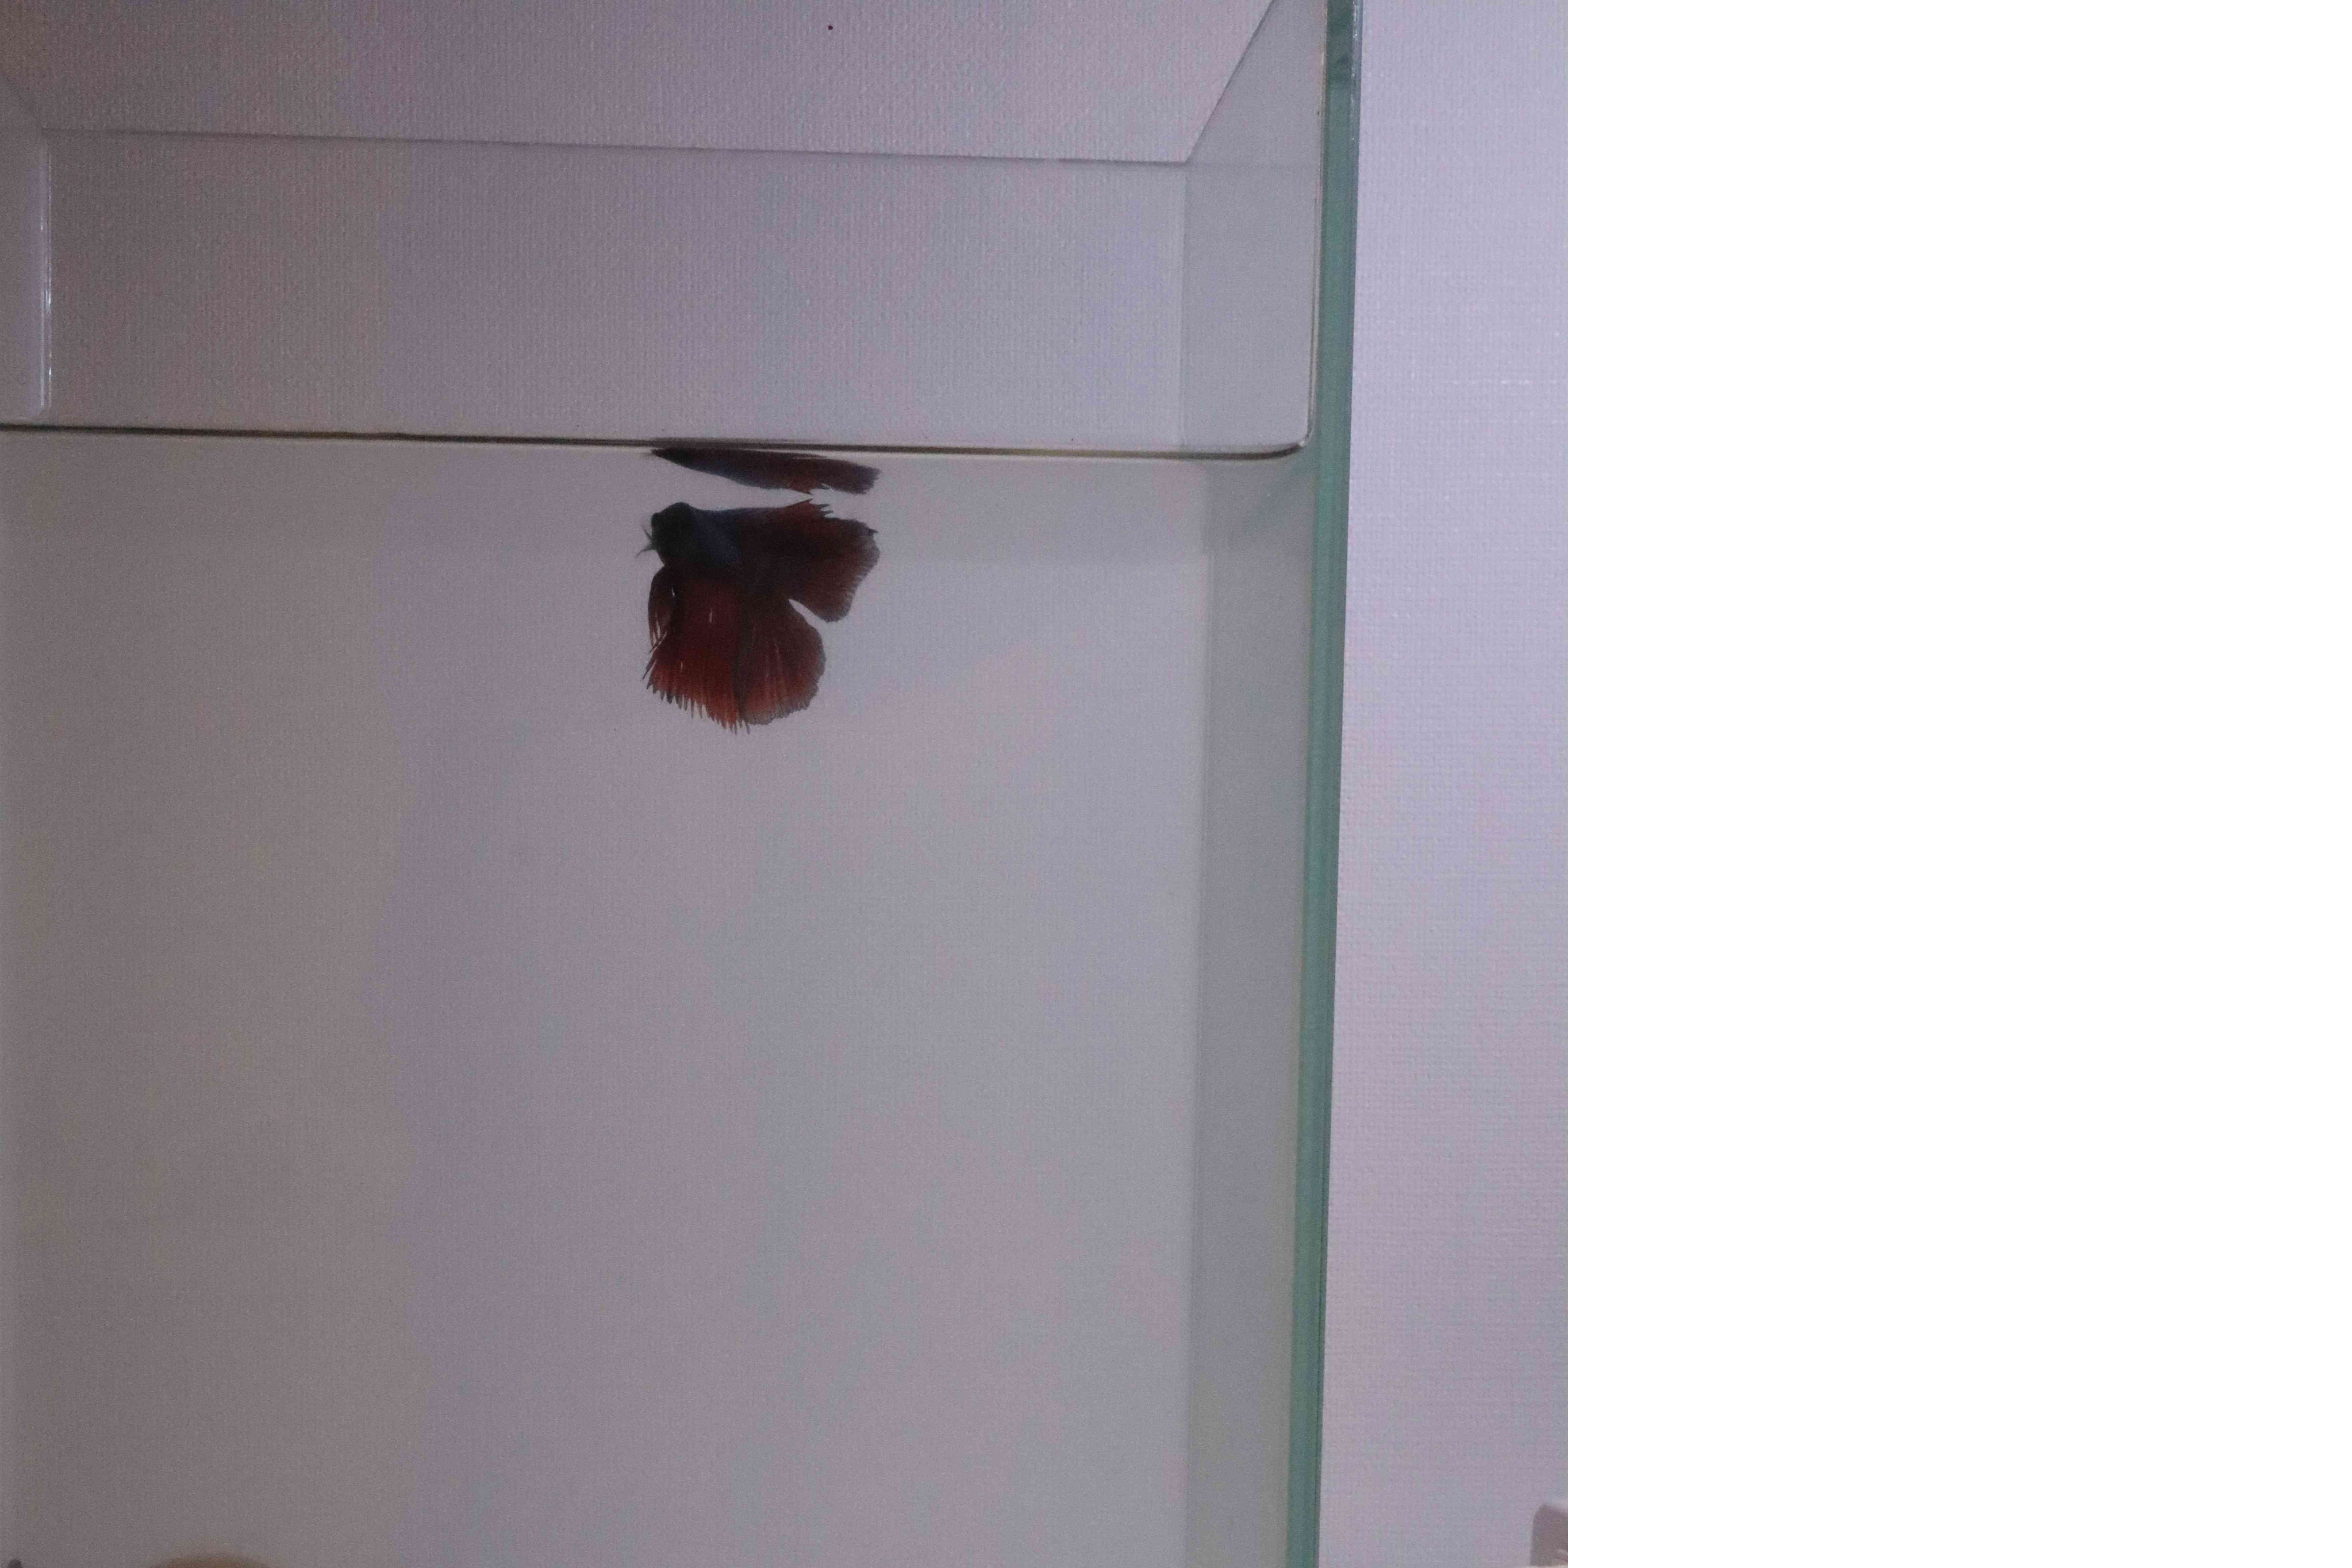fish: (618, 485, 891, 749)
